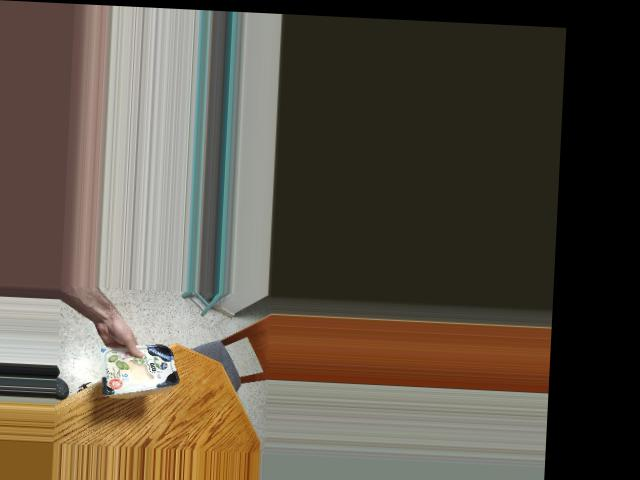cheese: (94, 337, 183, 390)
